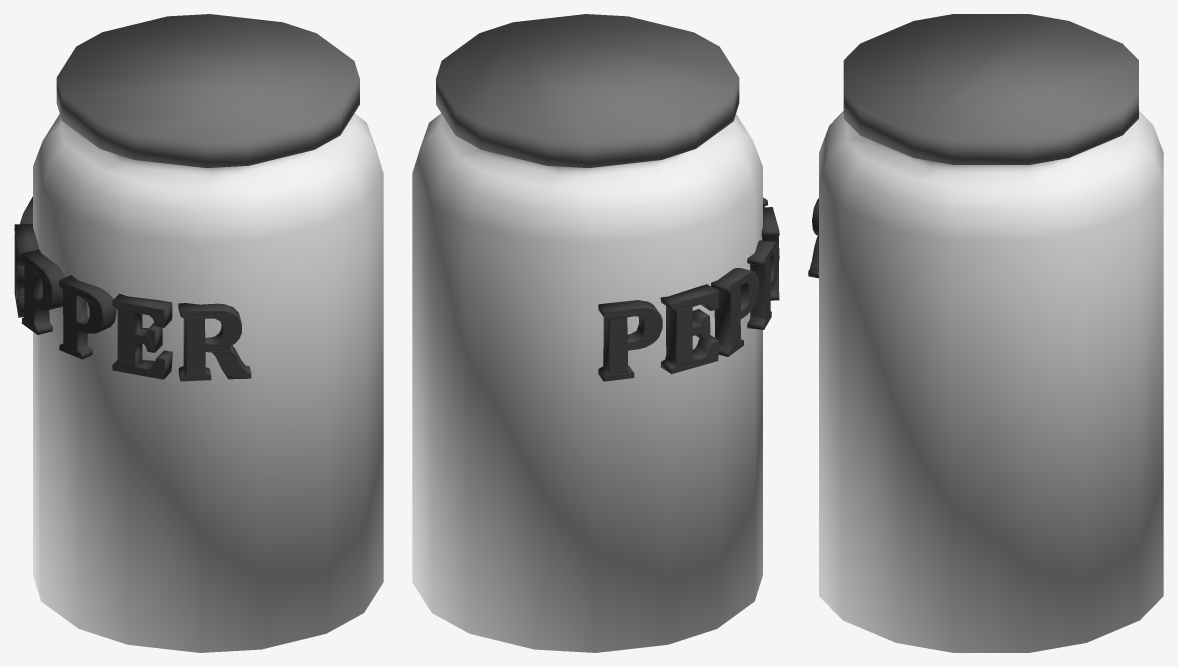
Rendered from Pepper.fbx.
The picture shows the model from 3 angles, left to right: view 1: azimuth 30°, elevation 25°; view 2: azimuth 150°, elevation 25°; view 3: azimuth 270°, elevation 25°; orthographic projection.
Parts seen in each view (by area): view 1: Pepper; view 2: Pepper; view 3: Pepper.
Boxes of the visible parts, left/top/right/bottom form: Pepper: left=14, top=14, right=383, bottom=652; Pepper: left=412, top=14, right=779, bottom=652; Pepper: left=808, top=14, right=1163, bottom=652.
Bounding box in the file's own units: 5.99 × 9.17 × 5.87.
